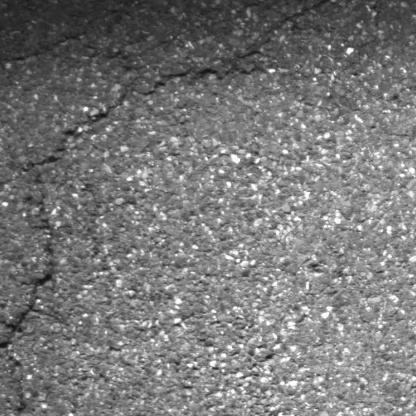Cracks: (16, 0, 337, 178), (0, 193, 58, 416)
